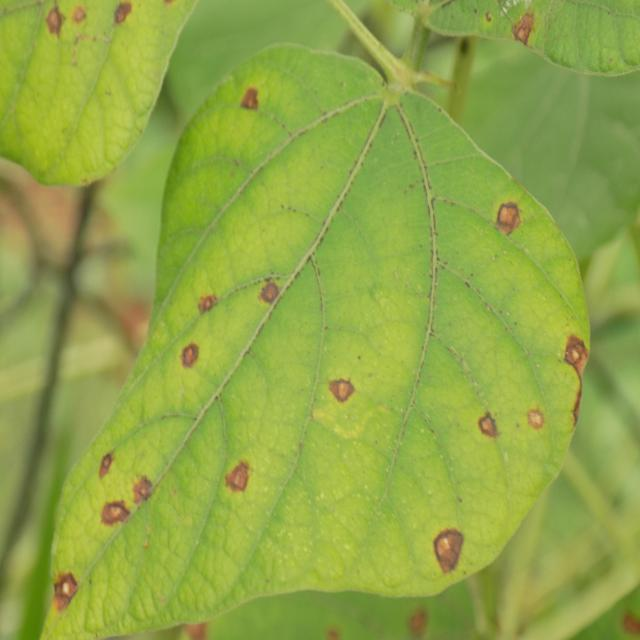Dolicos bean_cercospora leaf spot: (39, 41, 589, 640)
